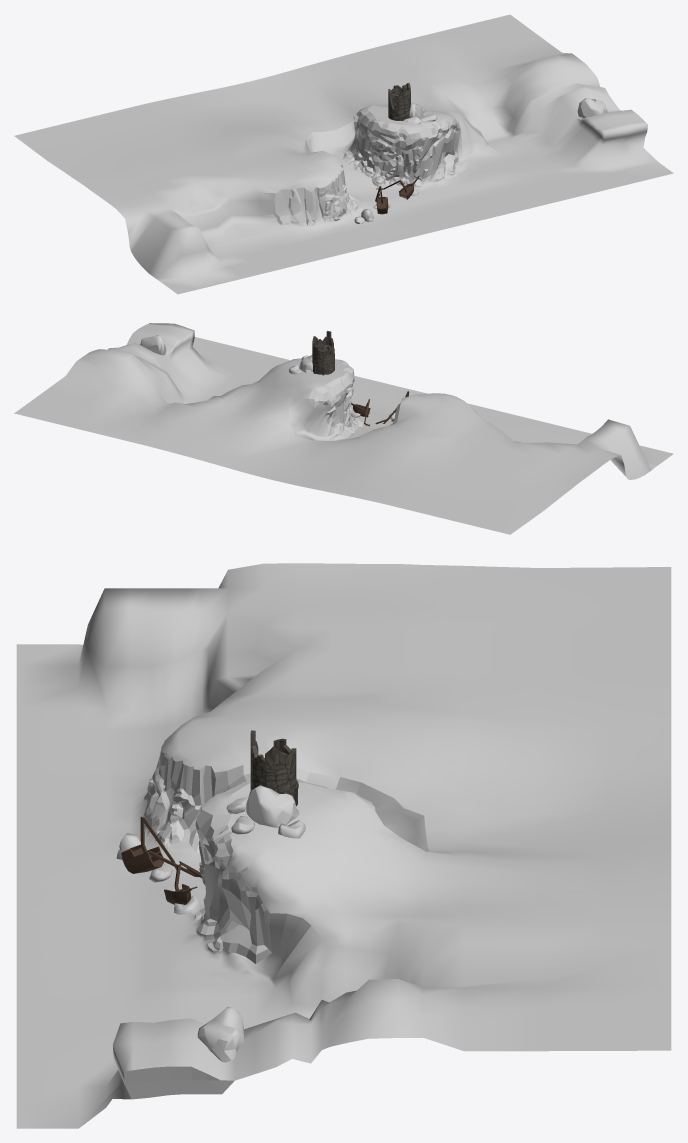
Rendered from location_edits.fbx.
3 renders of one model, top to bottom at view 1: azimuth 30°, elevation 25°; view 2: azimuth 150°, elevation 25°; view 3: azimuth 270°, elevation 25°, orthographic. The views are drawn at different scales.
Visible parts, largest first — view 1: RetopoFlow.001, Cylinder.008; view 2: RetopoFlow.001, Cylinder.008; view 3: RetopoFlow.001, Cylinder.008, Cube.003.
Boxes of the visible parts, <box> form: RetopoFlow.001: <box>14,14,673,294</box>; Cylinder.008: <box>388,83,410,120</box>; RetopoFlow.001: <box>14,323,673,534</box>; Cylinder.008: <box>312,331,334,375</box>; RetopoFlow.001: <box>16,563,671,1128</box>; Cylinder.008: <box>250,730,298,806</box>; Cube.003: <box>121,844,163,873</box>.
Bounding box in the file's own units: 37878 × 7002 × 21608.
